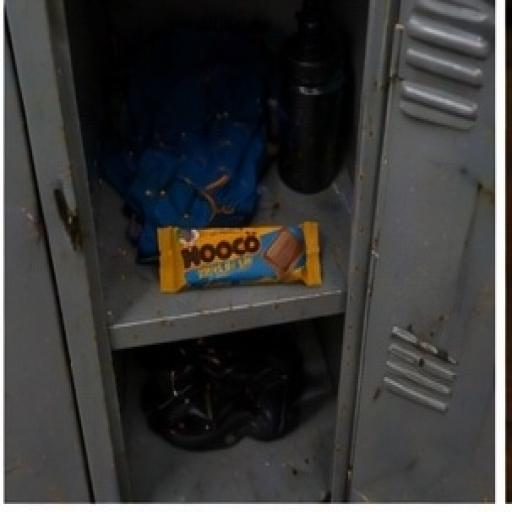biscuit-detection: (130, 170, 338, 315)
